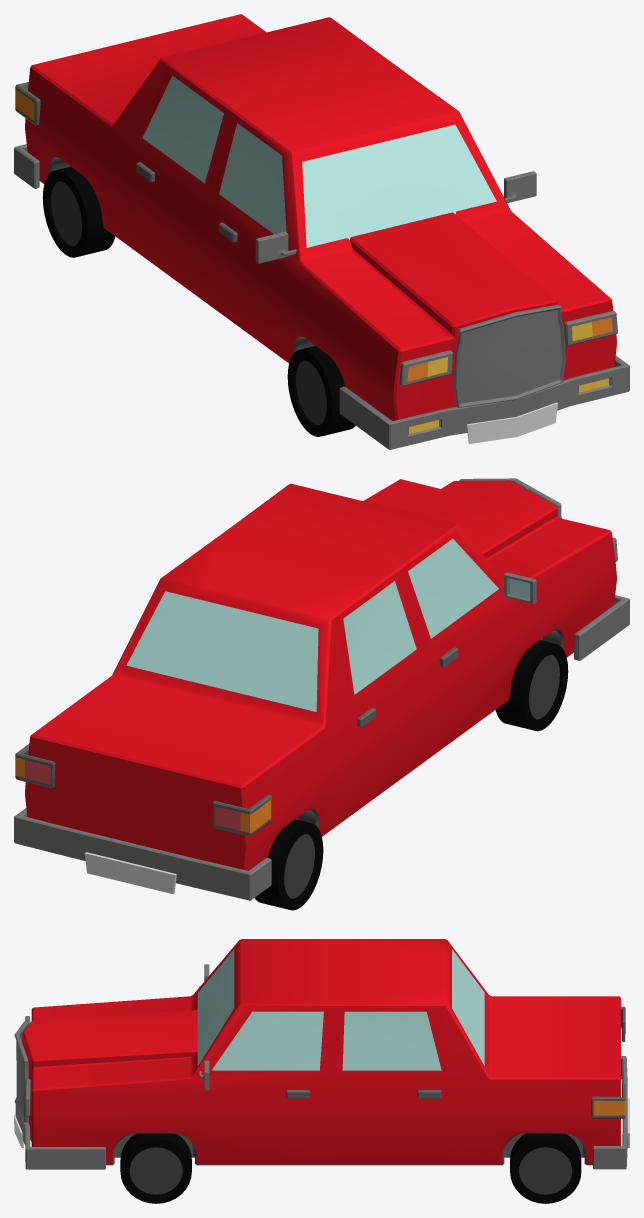
Rendered from rBart.fbx.
3 renders of one model, top to bottom at view 1: azimuth 30°, elevation 25°; view 2: azimuth 150°, elevation 25°; view 3: azimuth 270°, elevation 25°, orthographic. The views are drawn at different scales.
Parts seen in each view (by area): view 1: redranger; view 2: redranger; view 3: redranger.
Part boxes in pixels (<box>): redranger: <box>14,14,629,449</box>; redranger: <box>14,478,629,910</box>; redranger: <box>14,939,629,1203</box>.
Size of the model in its own units: 264 by 213 by 636.
